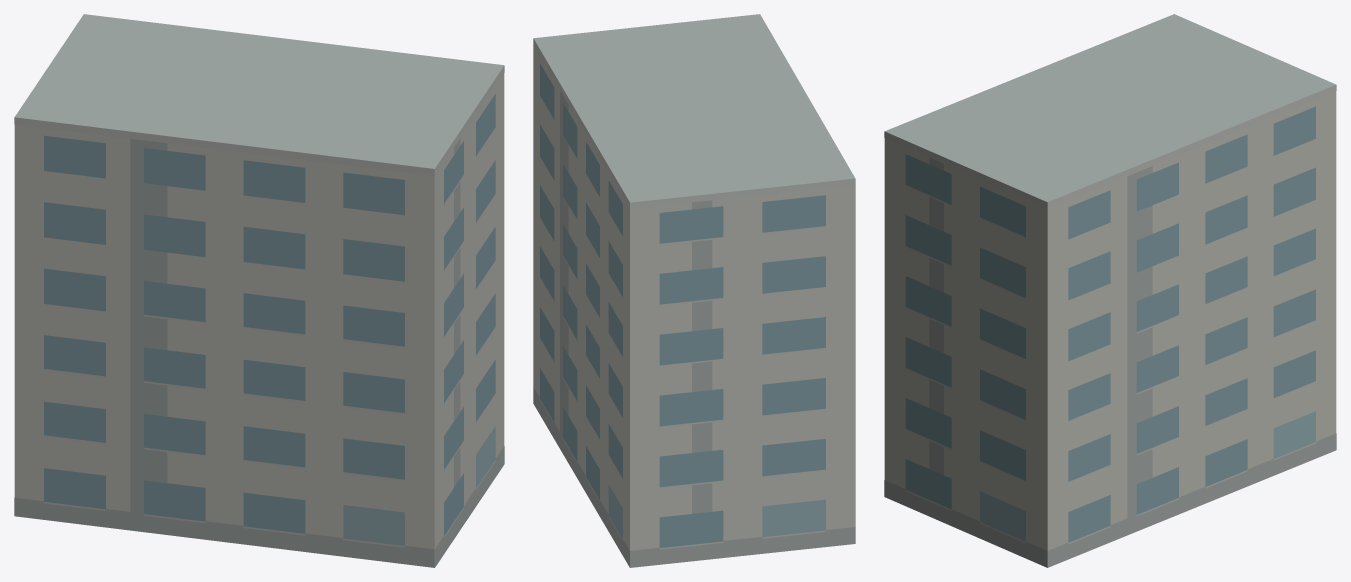
File: survey-upis-32848951.glb
3 views of the same model, side by side, from view 1: azimuth 30°, elevation 25°; view 2: azimuth 150°, elevation 25°; view 3: azimuth 270°, elevation 25° (orthographic). The views are drawn at different scales.
Visible parts, largest first — view 1: survey-upis-32848951.tmp; view 2: survey-upis-32848951.tmp; view 3: survey-upis-32848951.tmp.
Part boxes in pixels (left/top/right/bottom): survey-upis-32848951.tmp: left=14, top=14, right=504, bottom=567; survey-upis-32848951.tmp: left=533, top=14, right=855, bottom=567; survey-upis-32848951.tmp: left=884, top=14, right=1336, bottom=567.
Size of the model in its own units: 15.14 by 13.7 by 15.35.
